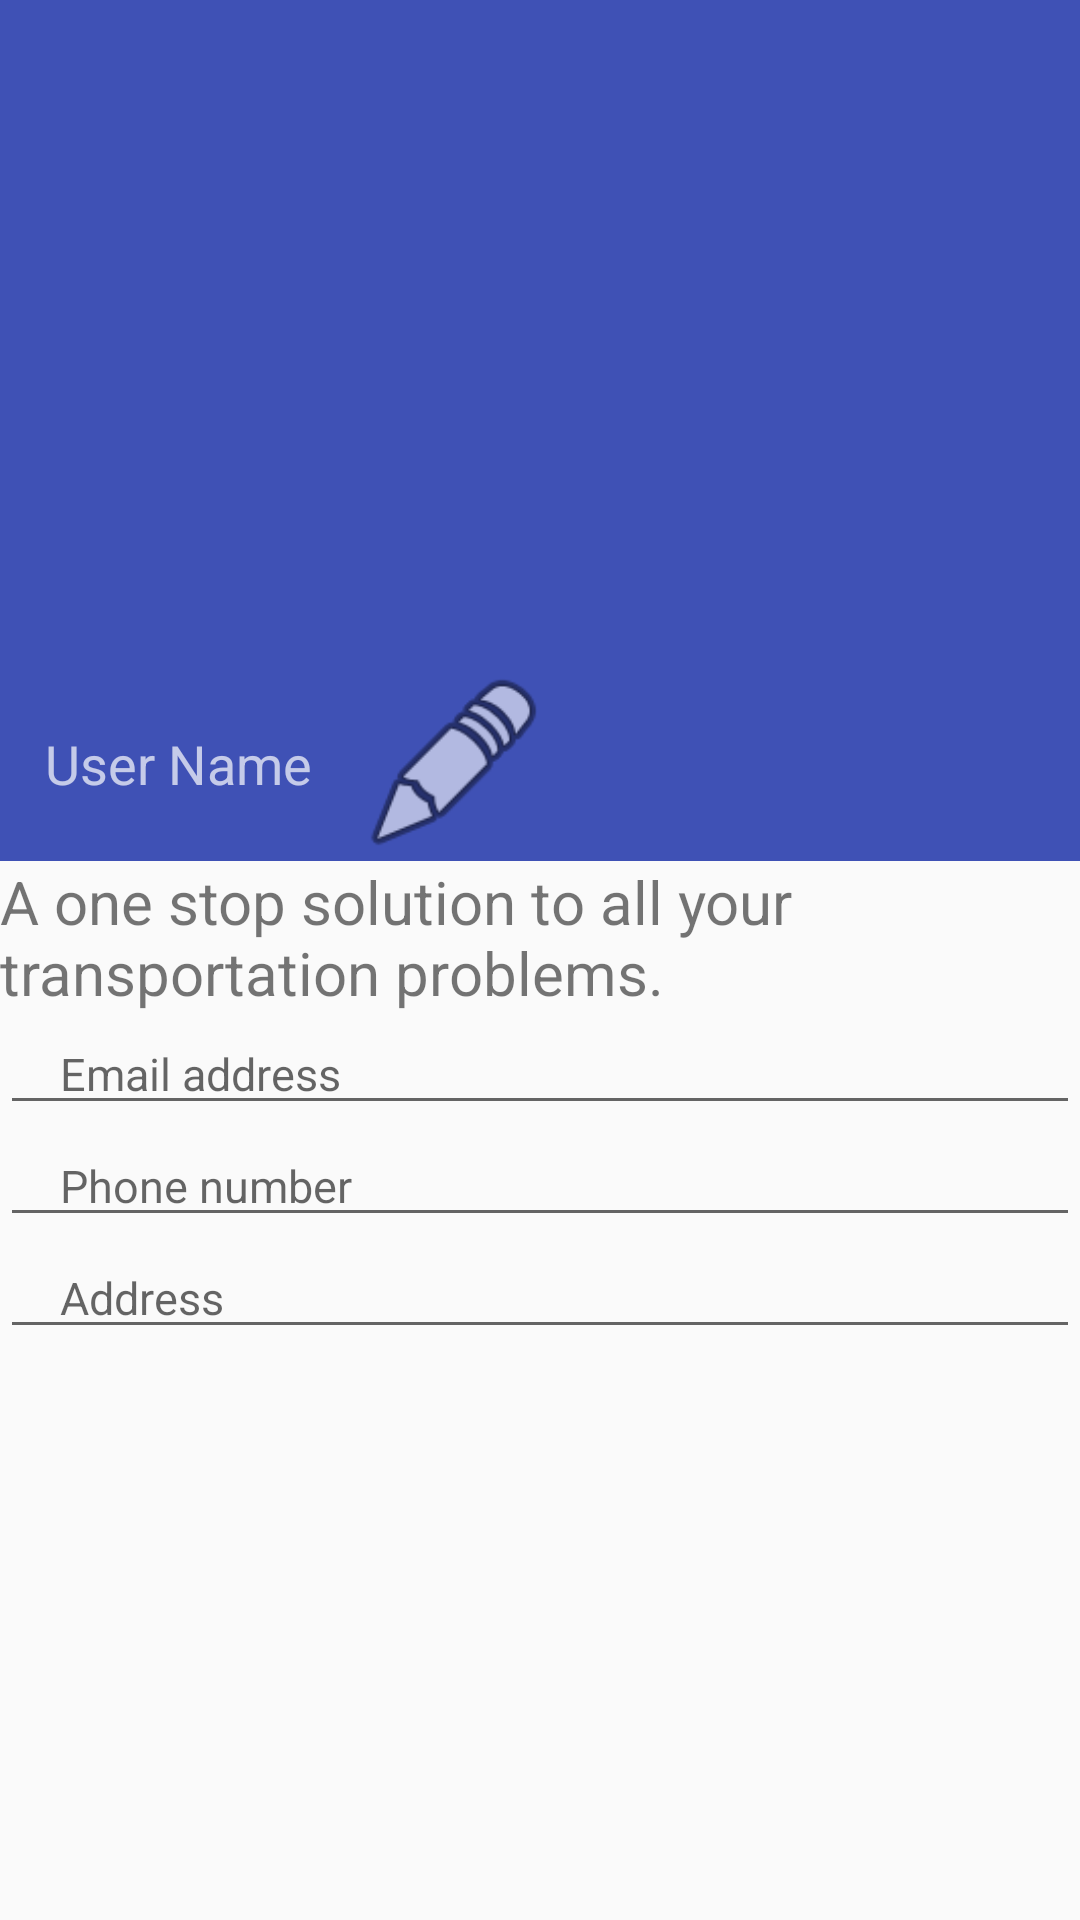

Icons on this 1080 x 1920 Android screen, each with the point to tap as (x=x, y=y):
edit: (x=453, y=762)
